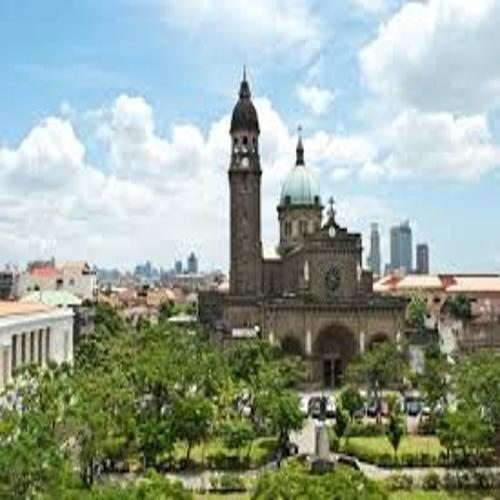Manila Cathedral Church: (185, 58, 408, 380)
